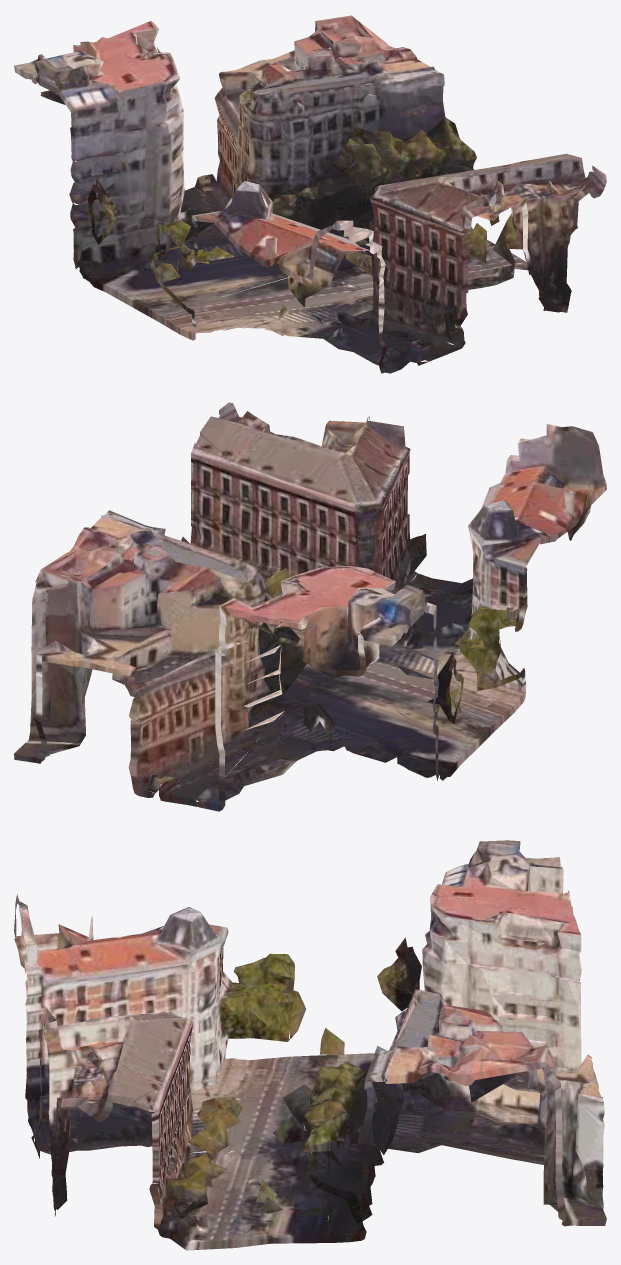
3 views of the same model, one above another, from view 1: azimuth 30°, elevation 25°; view 2: azimuth 150°, elevation 25°; view 3: azimuth 270°, elevation 25° (orthographic). The views are drawn at different scales.
Visible parts, largest first — view 1: Mesh_0; view 2: Mesh_0; view 3: Mesh_0.
Boxes of the visible parts, bbox=[...] form: Mesh_0: bbox=[14, 15, 606, 373]; Mesh_0: bbox=[14, 402, 606, 811]; Mesh_0: bbox=[14, 840, 606, 1250].
Size of the model in its own units: 66.58 by 34.89 by 82.58.
Materials: 1 (1 with a texture image).
